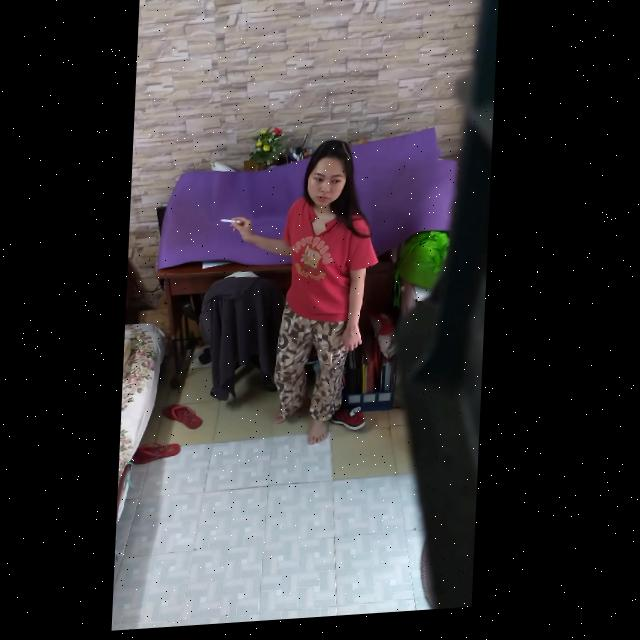cigarette: (224, 221, 244, 227)
